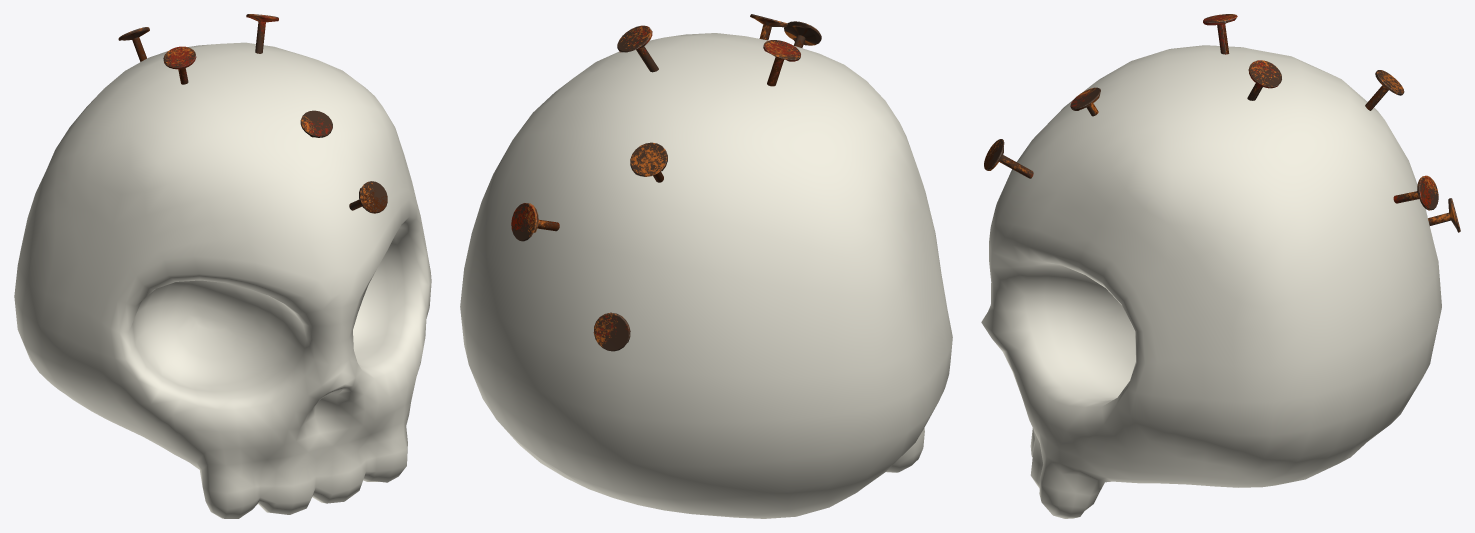
Rendered from clavel.fbx.
3 renders of one model, left to right at view 1: azimuth 30°, elevation 25°; view 2: azimuth 150°, elevation 25°; view 3: azimuth 270°, elevation 25°, orthographic. The views are drawn at different scales.
Visible parts, largest first — view 1: clavel_lowpoly; view 2: clavel_lowpoly; view 3: clavel_lowpoly.
Boxes of the visible parts, bbox=[...] form: clavel_lowpoly: bbox=[14, 14, 431, 518]; clavel_lowpoly: bbox=[460, 14, 952, 518]; clavel_lowpoly: bbox=[981, 14, 1460, 518].
Size of the model in its own units: 668 by 709 by 696.
Materials: 1 (1 with a texture image).
